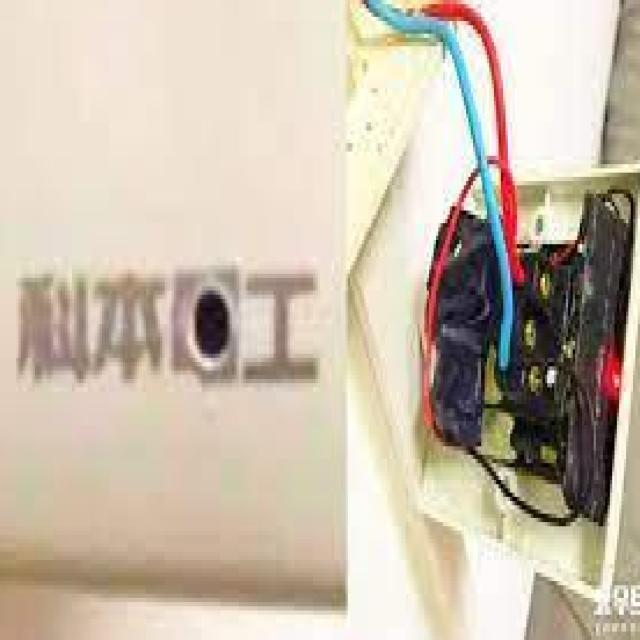hidden camera: (181, 266, 244, 385)
